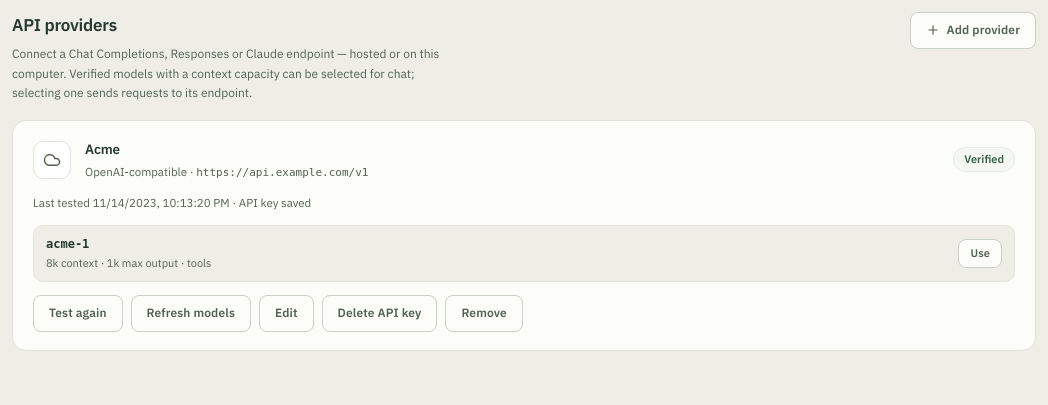
surfaces a rejected selection save instead of an unhandled rejection
Click the button "Use".
click(980, 254)  # box x1=958 y1=239 x2=1002 y2=268
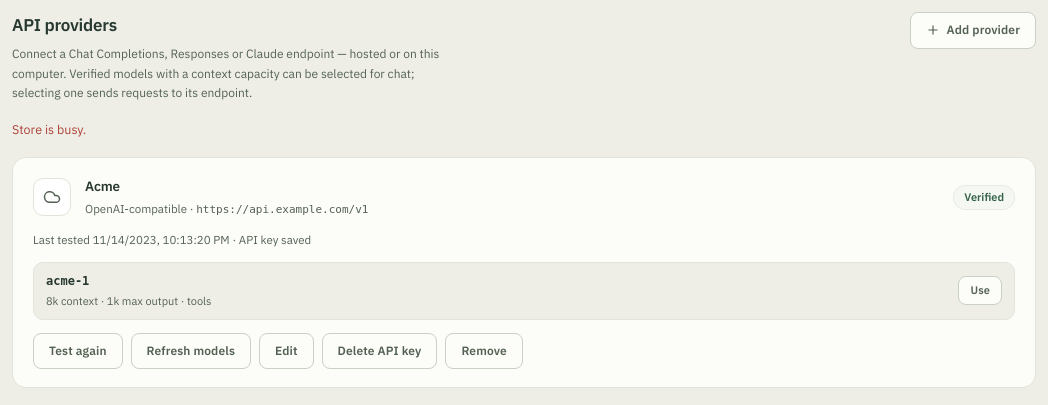
expect the message reads "Store is busy.": met, box x1=12 y1=121 x2=86 y2=137
